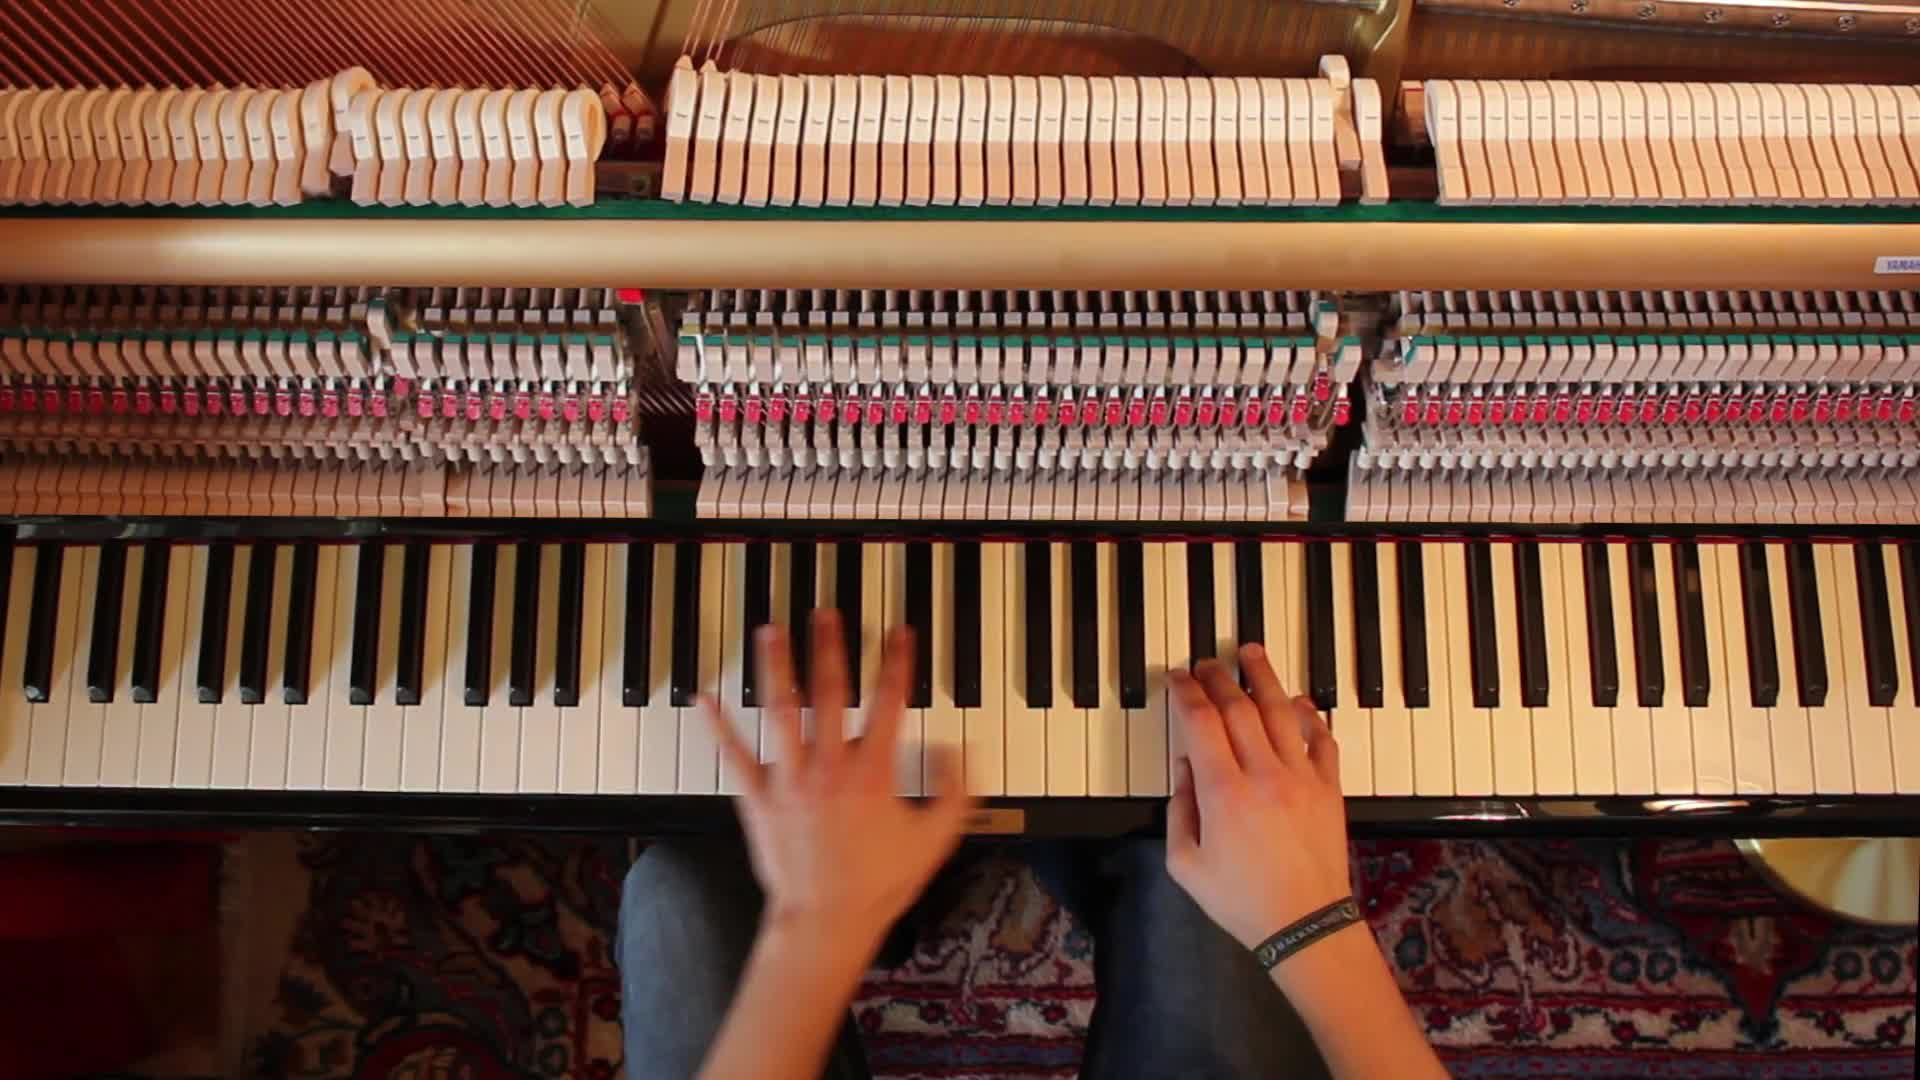left: (690, 608, 972, 899)
right: (1160, 644, 1352, 919)
